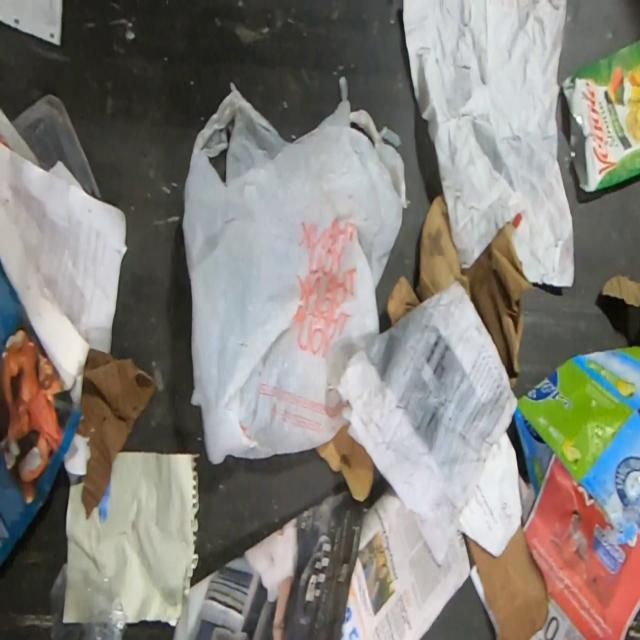cardboard: (386, 191, 530, 388), (515, 344, 640, 546), (74, 348, 156, 521), (466, 522, 548, 639), (602, 275, 640, 310)
rigid_plastic: (10, 94, 105, 202), (49, 563, 128, 639)
soft_plastic: (180, 78, 407, 464), (560, 40, 640, 196)
